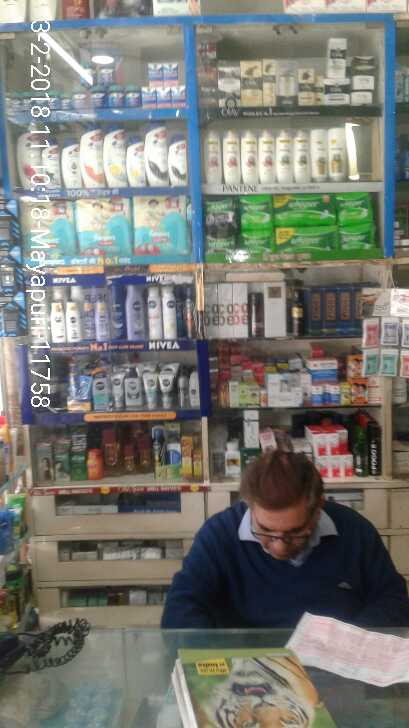vicks: (4, 60, 192, 108)
